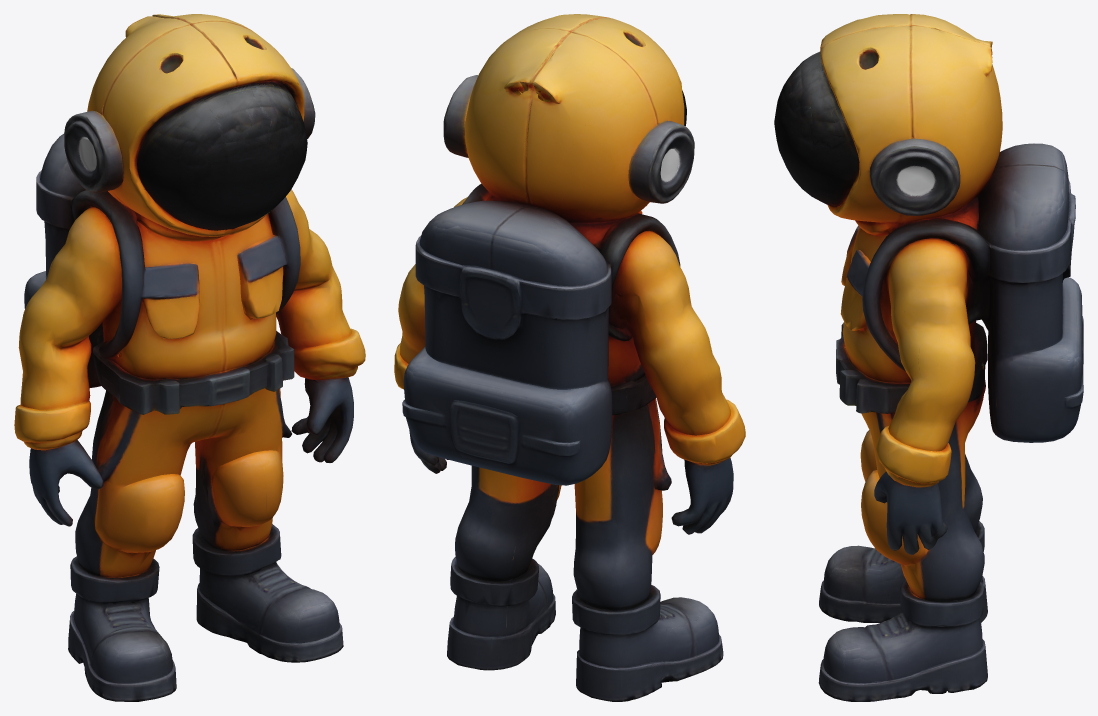
The model's file is astronaut.glb.
3 views of the same model, side by side, from view 1: azimuth 30°, elevation 25°; view 2: azimuth 150°, elevation 25°; view 3: azimuth 270°, elevation 25° (orthographic).
Parts seen in each view (by area): view 1: world_0; view 2: world_0; view 3: world_0.
Boxes of the visible parts, <box> form: world_0: <box>14,14,365,701</box>; world_0: <box>394,14,745,701</box>; world_0: <box>774,14,1083,701</box>.
Size of the model in its own units: 0.5688 by 1 by 0.4527.
Materials: 1 (1 with a texture image).
